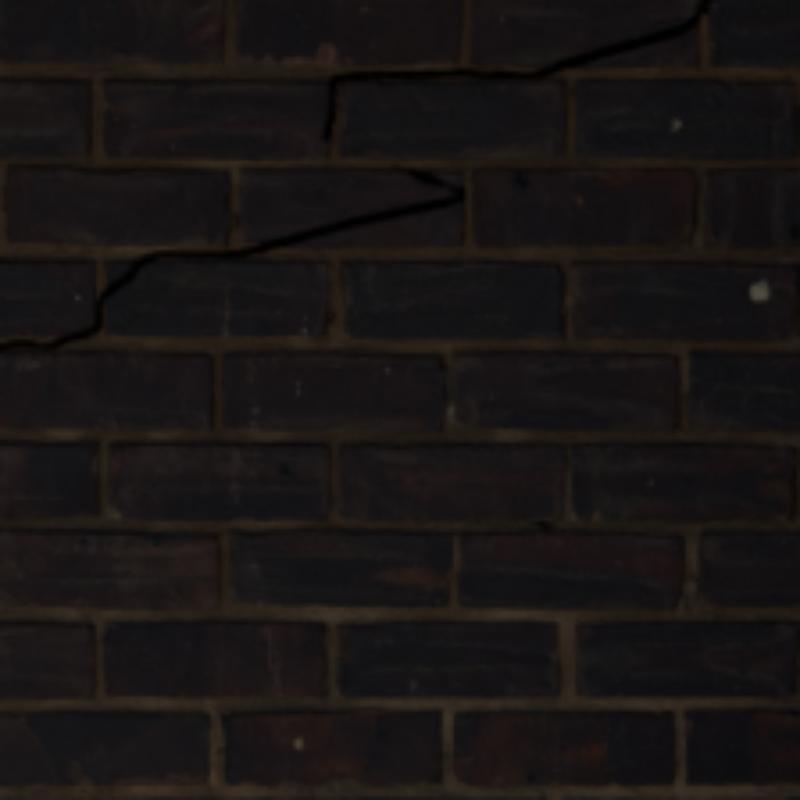pothole: (0, 164, 464, 350), (321, 0, 711, 139)
